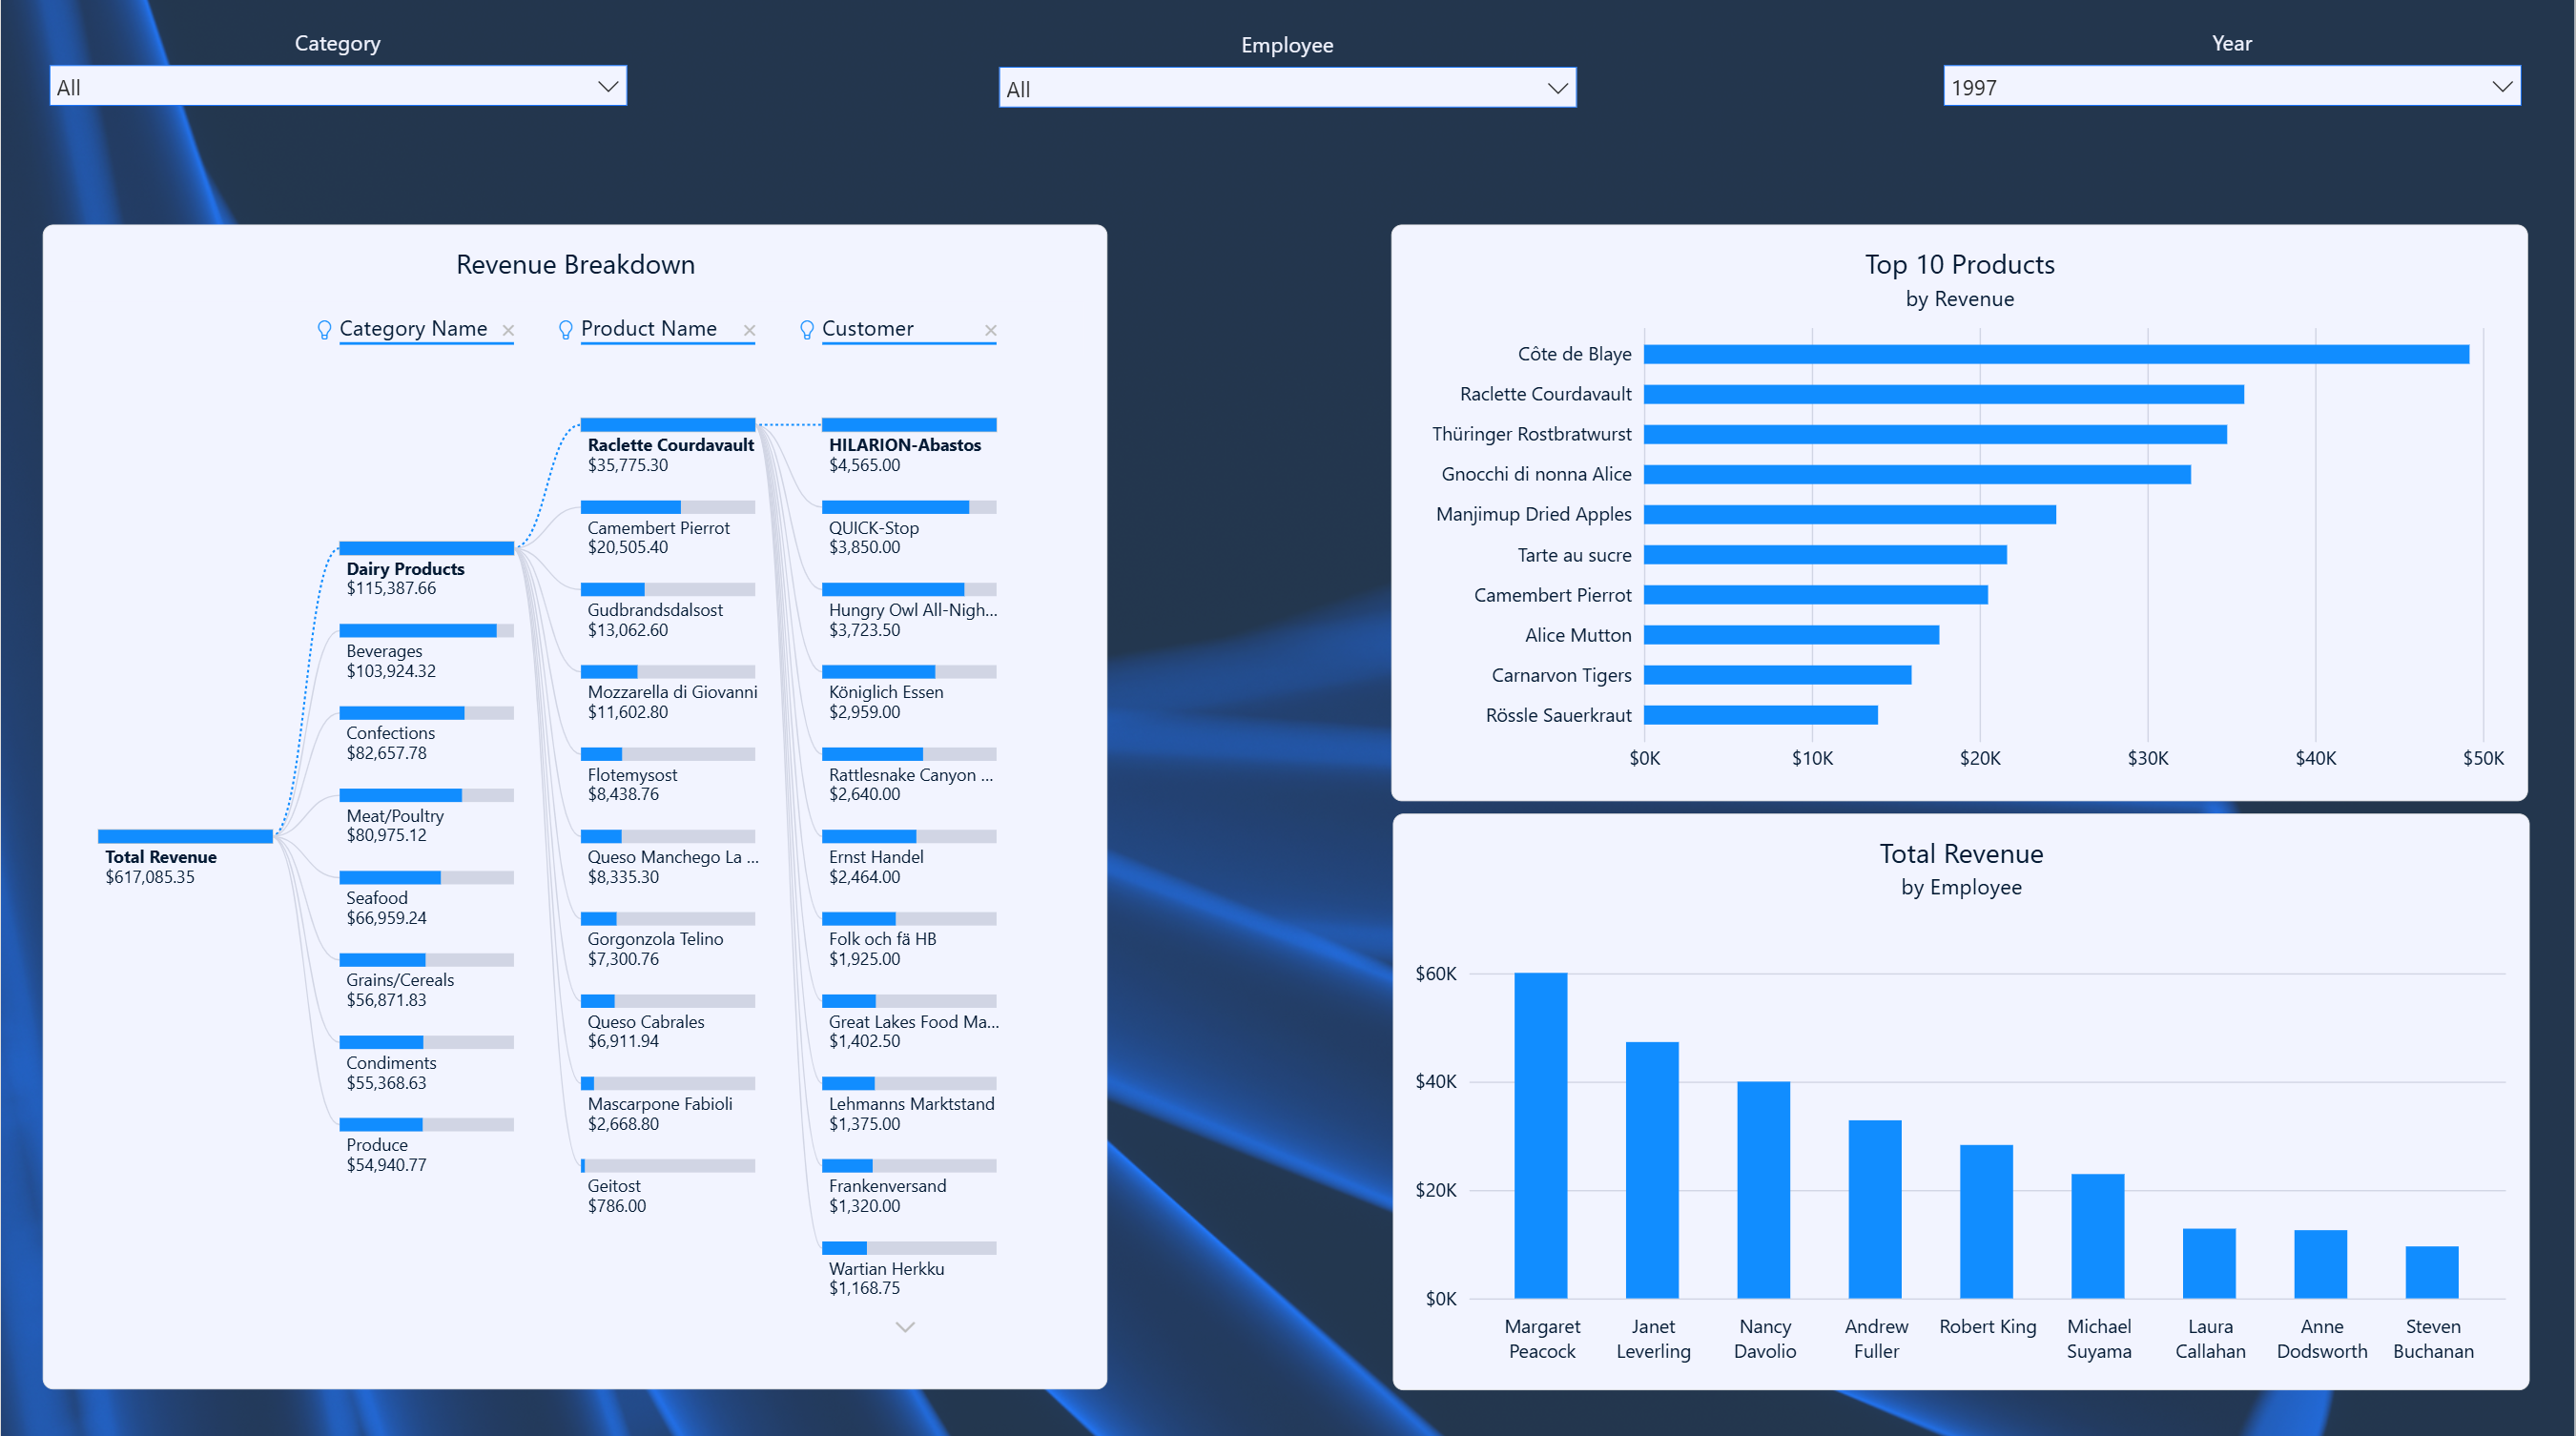

The page's visual inventory and layout, read from the dashboard file:
{"tool":"powerbi","page":{"name":"Detailed Analysis","canvas":[1920,1080],"ordinal":1},"visuals":[{"type":"clusteredBarChart","title":"Top 10 Products","fields":{"Category":["public vw_dim_product_enriched.Product Name"],"Y":["_Measures.Total Revenue"]},"box":[1037.1,171.8,847.9,430],"z":0},{"type":"decompositionTreeVisual","title":"Revenue Breakdown","fields":{"Analyze":["_Measures.Total Revenue"],"ExplainBy":["public vw_dim_product_enriched.Category Name","public vw_dim_product_enriched.Product Name","public vw_dim_customer_geo.Customer"]},"box":[31.1,171.8,794.3,869],"z":1000},{"type":"slicer","title":"Category","fields":{"Values":["public vw_dim_product_enriched.Category Name"]},"box":[31.1,24.9,440.7,75.9],"z":3000},{"type":"slicer","title":"Employee","fields":{"Values":["public vw_dim_employees.Employee Name"]},"box":[739.5,26.1,440.7,75.9],"z":3002},{"type":"clusteredColumnChart","title":"Total Revenue","fields":{"Category":["public vw_dim_employees.Employee Name"],"Y":["_Measures.Total Revenue"]},"box":[1038.3,611.3,847.9,430],"z":3003},{"type":"slicer","title":"Year","fields":{"Values":["Date.Year"]},"box":[1444.2,24.9,440.7,75.9],"z":3004}]}

Visuals, with their boxes in screenshot pixels (x1, y1, x2, y2), scaled from the page's 1920x1080 canvas onto the 2576x1436 screenshot:
"Top 10 Products" clusteredBarChart: left=1391, top=229, right=2529, bottom=800
"Revenue Breakdown" decompositionTreeVisual: left=42, top=229, right=1107, bottom=1384
"Category" slicer: left=42, top=33, right=633, bottom=134
"Employee" slicer: left=992, top=34, right=1583, bottom=135
"Total Revenue" clusteredColumnChart: left=1393, top=812, right=2530, bottom=1385
"Year" slicer: left=1938, top=33, right=2529, bottom=134
